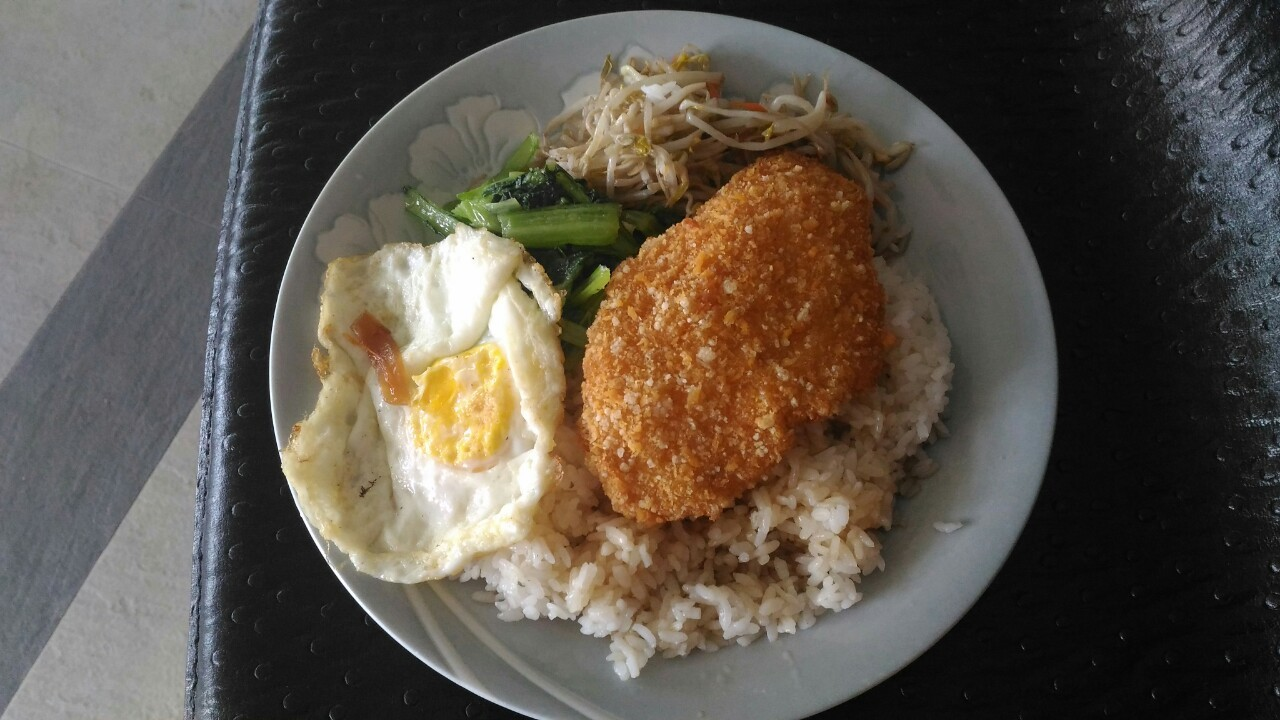fried_chicken: (578, 155, 890, 536)
fried_eggs: (280, 216, 566, 580)
mung_bean_sprouts: (553, 43, 867, 213)
rice: (471, 470, 893, 681)
water_spinach: (433, 155, 637, 296)
